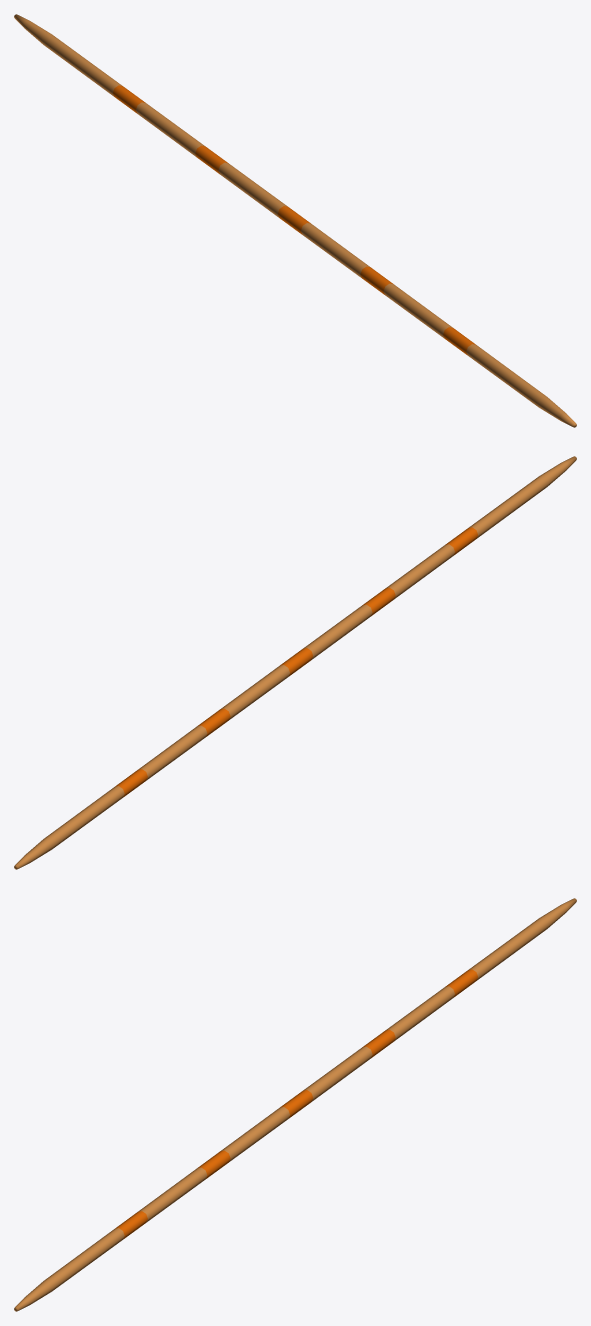
File: SM_Mikado_Bonzen.fbx
The picture shows the model from 3 angles, top to bottom: view 1: azimuth 30°, elevation 25°; view 2: azimuth 150°, elevation 25°; view 3: azimuth 330°, elevation 25°; orthographic projection.
Visible parts, largest first — view 1: Mikado_Bonzen; view 2: Mikado_Bonzen; view 3: Mikado_Bonzen.
Part boxes in pixels (x1,y1,x2,y2): Mikado_Bonzen: [14, 14, 576, 427]; Mikado_Bonzen: [14, 456, 576, 869]; Mikado_Bonzen: [14, 898, 576, 1311].
Size of the model in its own units: 0.3774 by 0.3774 by 29.26.
